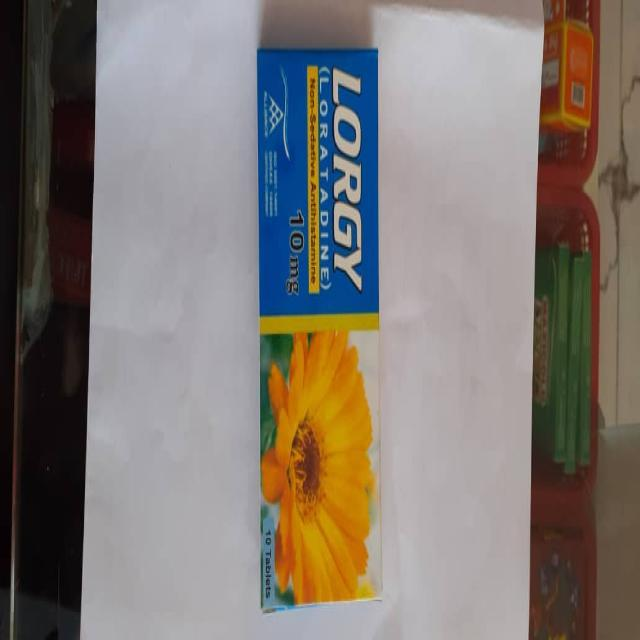drug-name: (331, 65, 362, 290)
